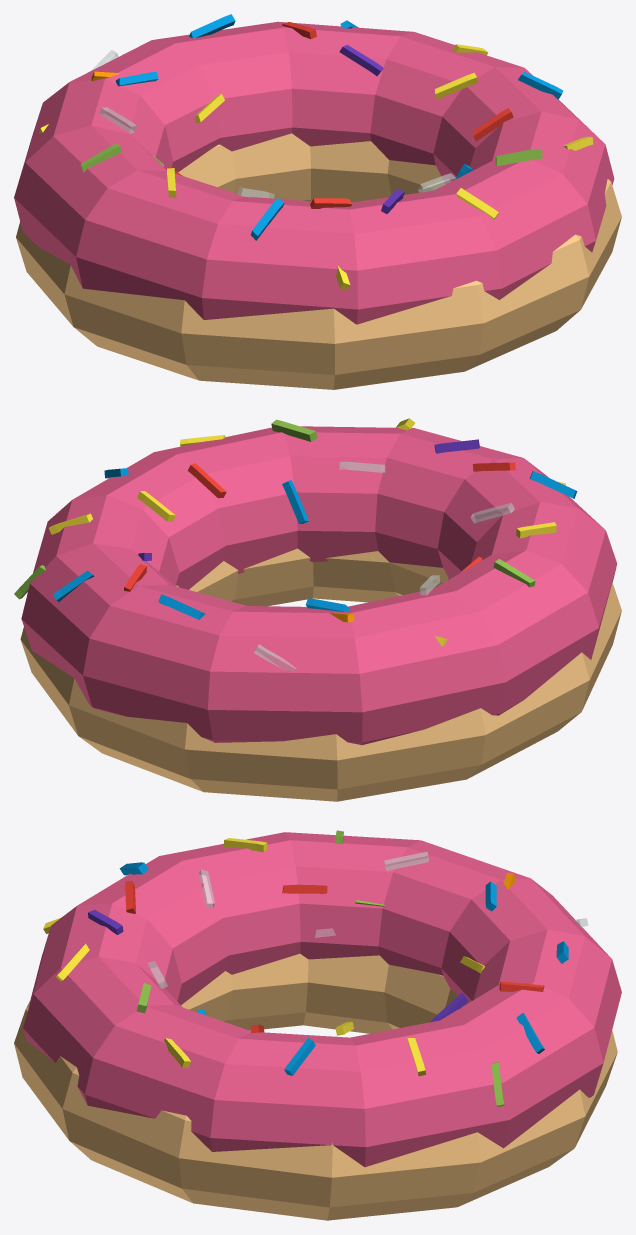
Rendered from donut.glb.
3 renders of one model, top to bottom at view 1: azimuth 30°, elevation 25°; view 2: azimuth 150°, elevation 25°; view 3: azimuth 270°, elevation 25°, orthographic.
Parts seen in each view (by area): view 1: group1362374430, group2098678608, group1032171036, group1138604164, group356462606; view 2: group1362374430, group2098678608, group1032171036; view 3: group1362374430, group2098678608.
Part boxes in pixels (box(x1,y1,x2,y2)): group1362374430: box(14, 21, 614, 324); group2098678608: box(16, 133, 621, 389); group1032171036: box(495, 148, 542, 166); group1138604164: box(435, 72, 477, 99); group356462606: box(339, 44, 383, 76); group1362374430: box(21, 426, 617, 745); group2098678608: box(20, 548, 621, 801); group1032171036: box(271, 419, 317, 441); group1362374430: box(23, 832, 621, 1167); group2098678608: box(14, 953, 617, 1220).
Bounding box in the file's own units: 0.4294 × 0.1566 × 0.432.
